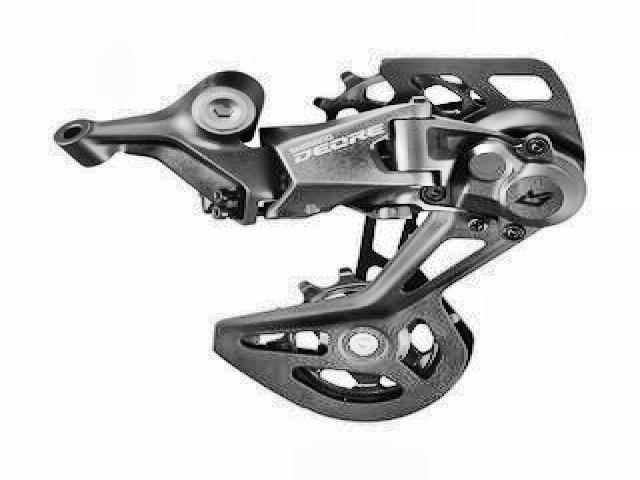rear_derailleur: (54, 37, 592, 425)
